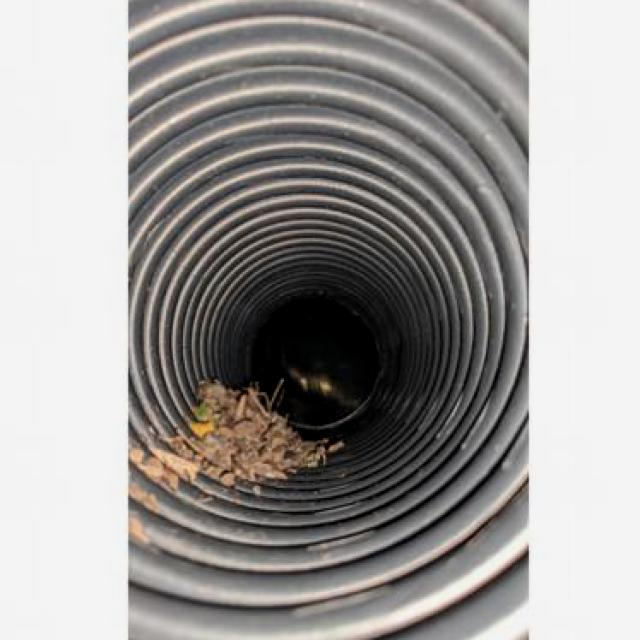dirt: (130, 378, 322, 512)
leaf: (183, 387, 219, 446)
